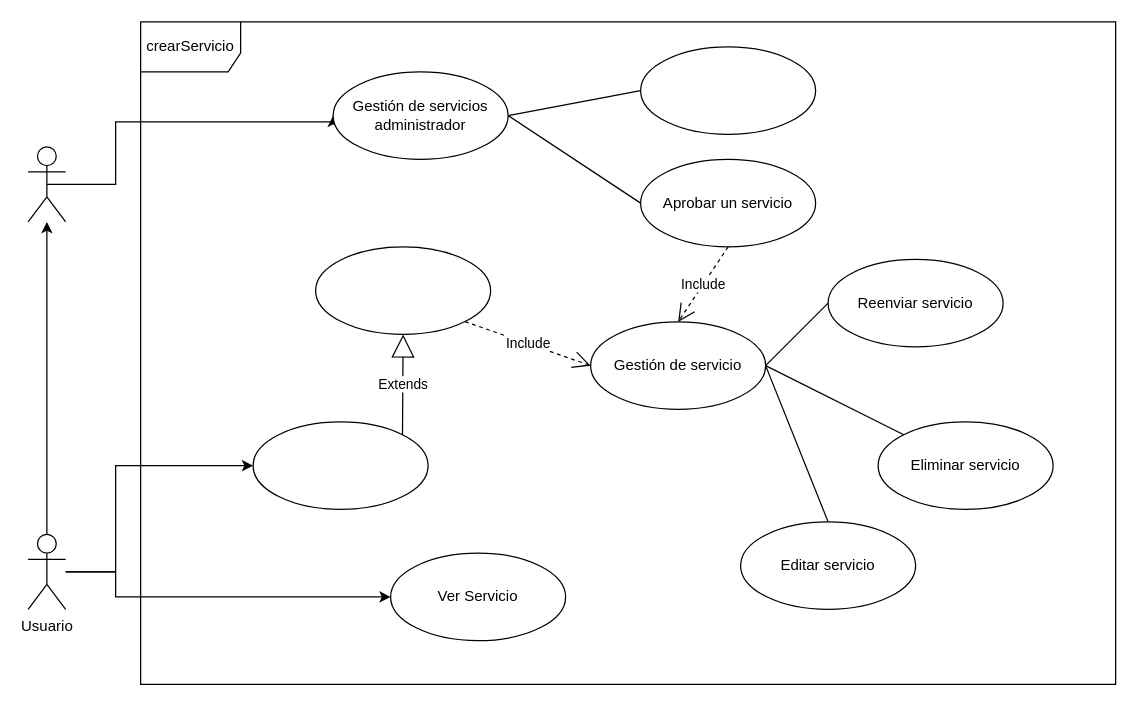
This 1138x706 diagram has some shape labels left out. The shapes that lost their labels are listed below. From the top down, each one's centre as x and y in pixels, then its label:
the point at 727,90: Rechazar un servicio
the point at 46,184: Admin
the point at 402,290: Crear Servicio
the point at 340,465: Iniciar sesión
